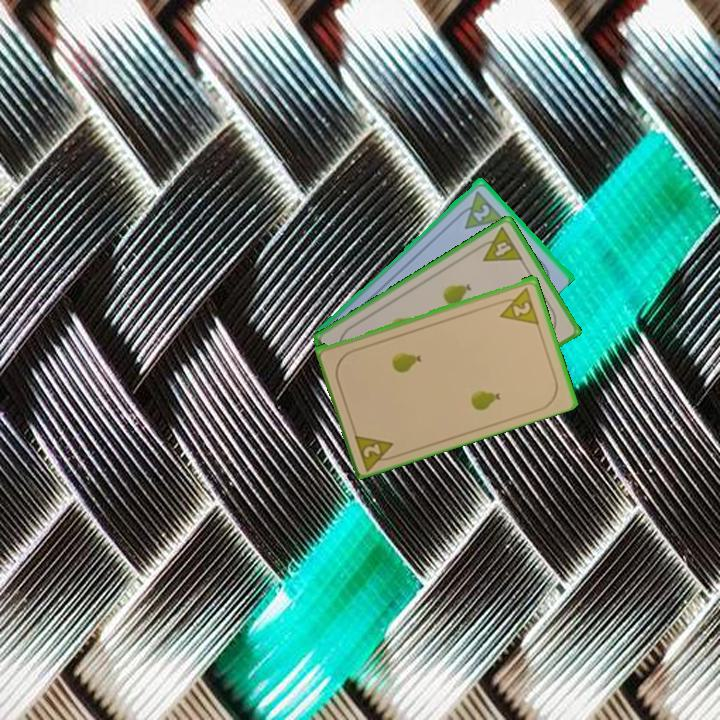2p: (452, 186, 506, 232), (351, 428, 401, 472), (493, 284, 542, 327)
4p: (473, 223, 526, 265)
